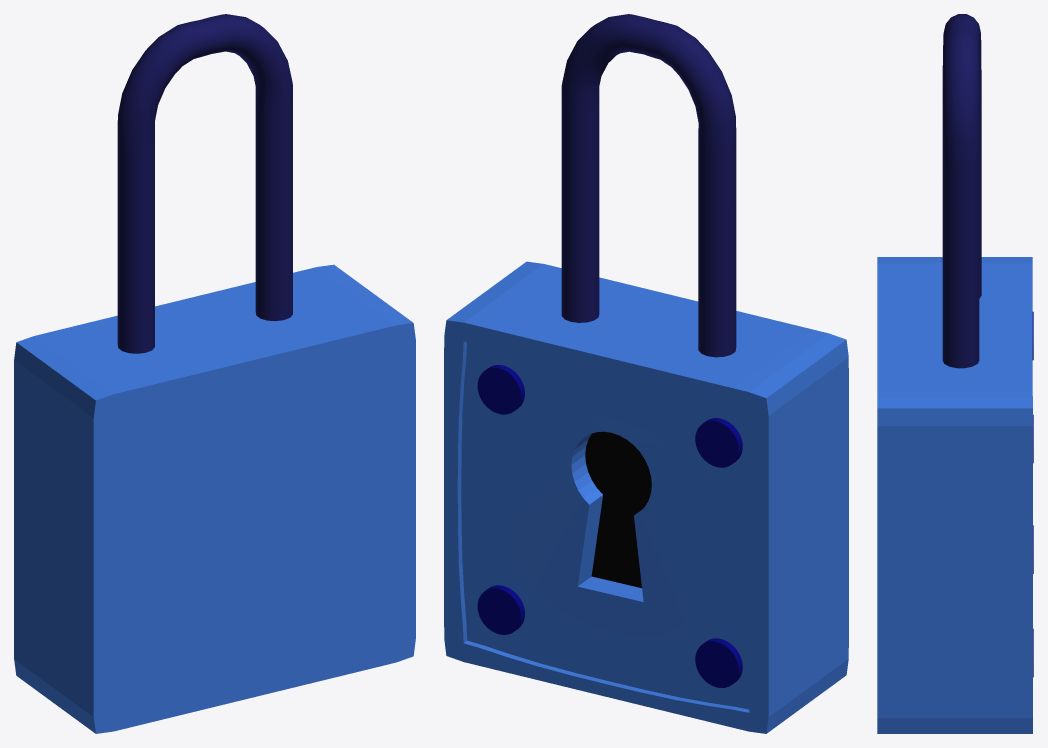
File: LockBlue.glb
3 views of the same model, side by side, from view 1: azimuth 30°, elevation 25°; view 2: azimuth 150°, elevation 25°; view 3: azimuth 270°, elevation 25° (orthographic). The views are drawn at different scales.
Parts seen in each view (by area): view 1: Plane, Plane.001; view 2: Plane, Plane.001, Plane.003, Cylinder, Cylinder.001; view 3: Plane, Plane.001.
Part boxes in pixels (left/top/right/bottom): Plane: left=14, top=264, right=415, bottom=733; Plane.001: left=117, top=14, right=292, bottom=353; Plane: left=444, top=261, right=848, bottom=733; Plane.001: left=561, top=14, right=736, bottom=357; Plane.003: left=585, top=431, right=651, bottom=588; Cylinder: left=695, top=418, right=742, bottom=687; Cylinder.001: left=477, top=365, right=524, bottom=634; Plane: left=877, top=257, right=1032, bottom=733; Plane.001: left=942, top=14, right=981, bottom=368.
Bounding box in the file's own units: 5.5 × 10.54 × 2.37.
